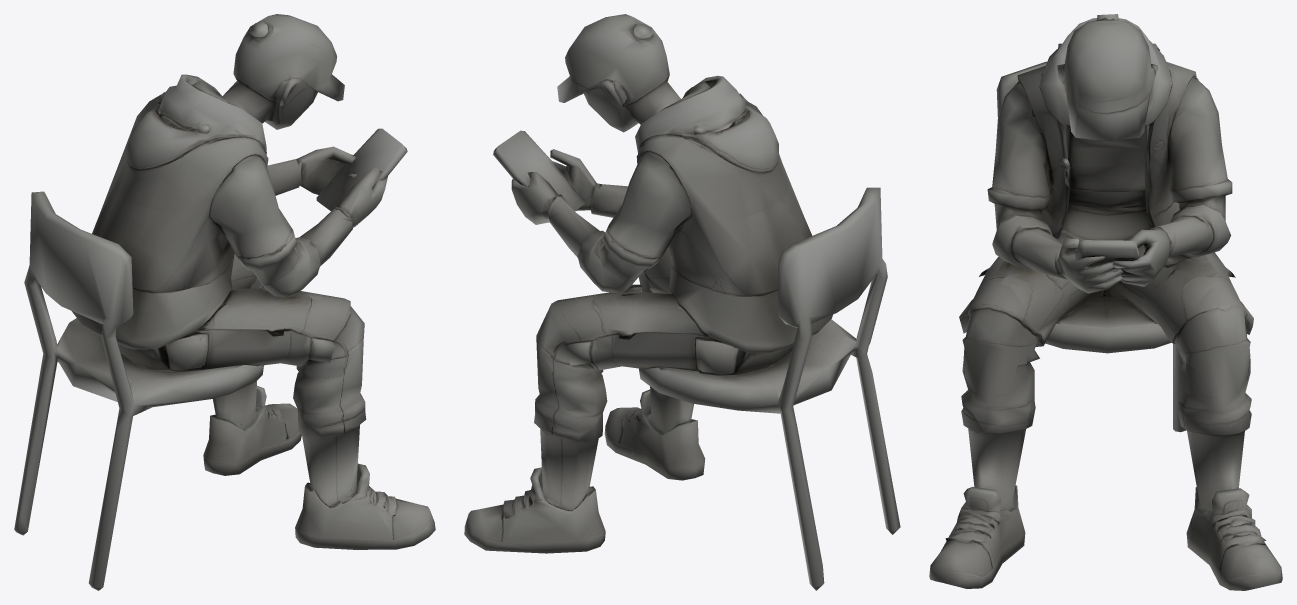
Rendered from seated-b.glb.
3 renders of one model, left to right at view 1: azimuth 30°, elevation 25°; view 2: azimuth 150°, elevation 25°; view 3: azimuth 270°, elevation 25°, orthographic. The views are drawn at different scales.
Parts seen in each view (by area): view 1: tripo_node_8146edf9-32ab-46a4-a2c6-e0410fddfeec; view 2: tripo_node_8146edf9-32ab-46a4-a2c6-e0410fddfeec; view 3: tripo_node_8146edf9-32ab-46a4-a2c6-e0410fddfeec.
Boxes of the visible parts, x1,y1,x2,y2 form: tripo_node_8146edf9-32ab-46a4-a2c6-e0410fddfeec: (14, 14, 435, 590); tripo_node_8146edf9-32ab-46a4-a2c6-e0410fddfeec: (464, 14, 900, 590); tripo_node_8146edf9-32ab-46a4-a2c6-e0410fddfeec: (929, 14, 1282, 590).
Bounding box in the file's own units: 0.7559 × 0.998 × 0.6035.
1 material, 1 textured.
